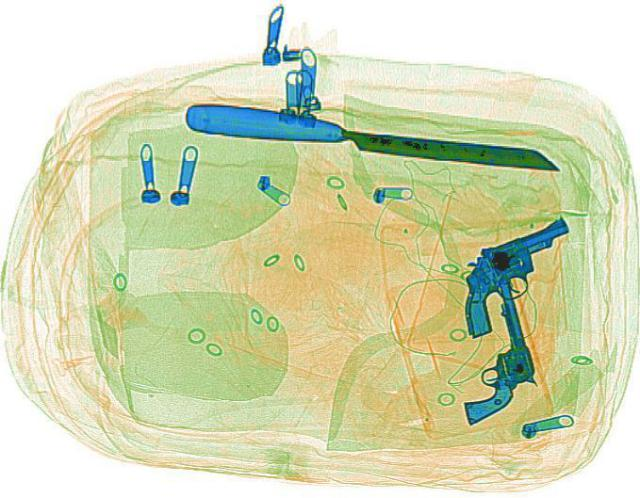Gun: (414, 197, 598, 343), (426, 242, 546, 423)
Knife: (178, 96, 564, 177)
